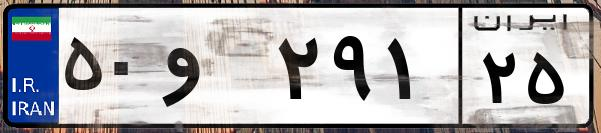0: (110, 28, 158, 98)
1: (385, 28, 445, 110)
2: (270, 28, 330, 110), (475, 38, 525, 113)
5: (57, 26, 110, 100), (525, 38, 570, 115)
9: (330, 28, 385, 110)
و: (158, 20, 270, 120)
